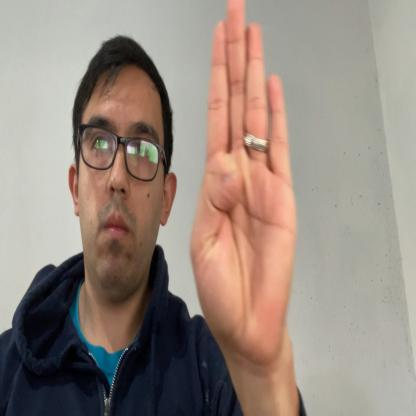B: (190, 0, 297, 360)
